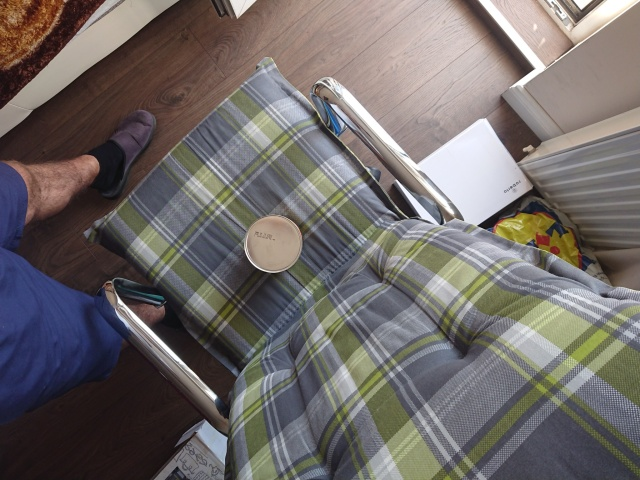Nescafe Classic 225g: (241, 213, 306, 277)
